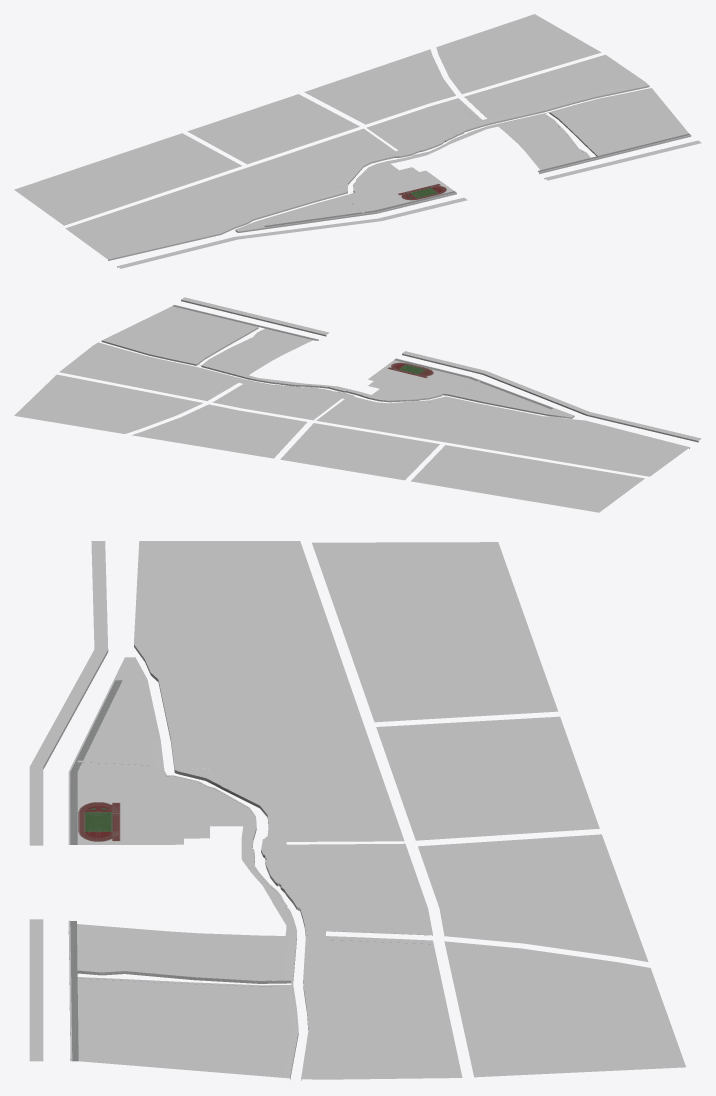
Rendered from Ground.FBX.
3 renders of one model, top to bottom at view 1: azimuth 30°, elevation 25°; view 2: azimuth 150°, elevation 25°; view 3: azimuth 270°, elevation 25°, orthographic. The views are drawn at different scales.
Visible parts, largest first — view 1: Ground03, Object017, caochang; view 2: Ground03, Object017, caochang; view 3: Ground03, caochang, Object017.
Part boxes in pixels (x1,y1,x2,y2): Ground03: (14,14,701,268); Object017: (318,88,651,203); caochang: (398,184,446,200); Ground03: (14,297,701,512); Object017: (102,340,481,402); caochang: (387,362,433,378); Ground03: (29,541,685,1080); caochang: (78,802,120,841); Object017: (158,739,307,1078).
Size of the model in its own units: 119687 by 61644 by 310.
